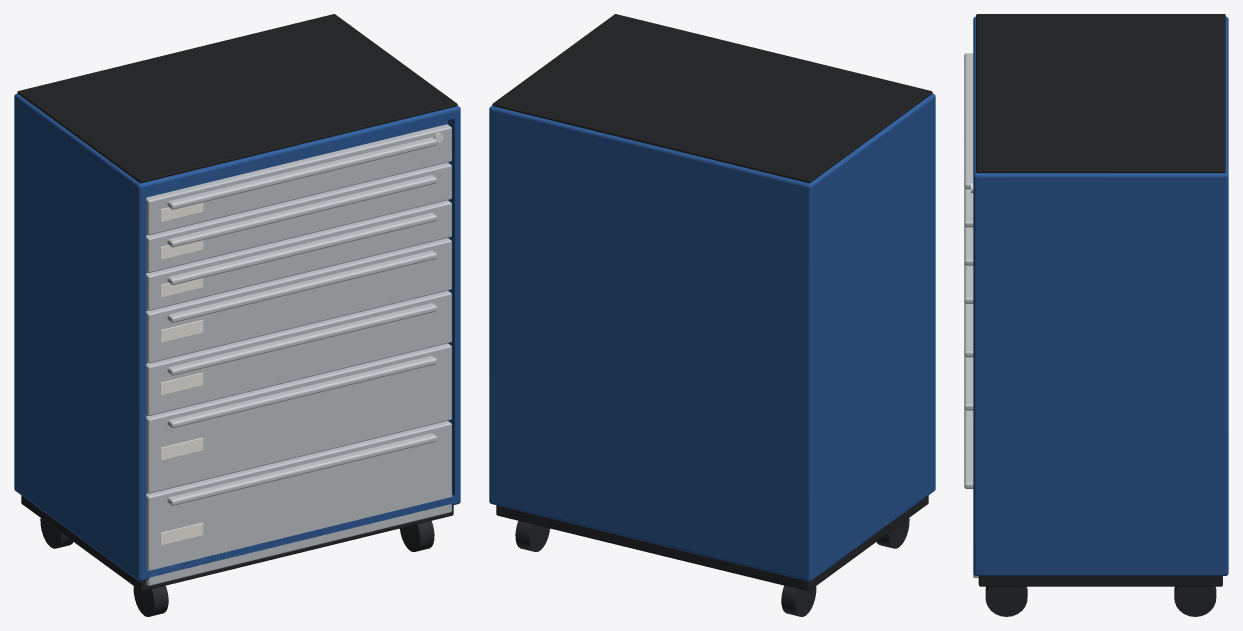
Rendered from tool-cabinet.glb.
3 renders of one model, left to right at view 1: azimuth 30°, elevation 25°; view 2: azimuth 150°, elevation 25°; view 3: azimuth 270°, elevation 25°, orthographic.
Parts seen in each view (by area): view 1: cab_body, cab_top_mat, drawer_7, drawer_6, drawer_4, drawer_5, drawer_1, drawer_3, drawer_2, drawer_6_handle, drawer_7_handle, drawer_3_handle (+10 smaller); view 2: cab_body, cab_top_mat, cab_base, cab_casters; view 3: cab_body, cab_top_mat, cab_base, cab_casters, drawer_1_handle, drawer_7_handle, drawer_6_handle, drawer_5_handle, drawer_3_handle, drawer_4_handle, drawer_2_handle.
Boxes of the visible parts, bbox=[...] form: cab_body: bbox=[14, 93, 460, 581]; cab_top_mat: bbox=[17, 14, 457, 183]; drawer_7: bbox=[146, 421, 451, 585]; drawer_6: bbox=[146, 343, 451, 493]; drawer_4: bbox=[146, 238, 451, 363]; drawer_5: bbox=[146, 290, 451, 415]; drawer_1: bbox=[146, 124, 451, 235]; drawer_3: bbox=[146, 200, 451, 310]; drawer_2: bbox=[146, 162, 451, 272]; drawer_6_handle: bbox=[167, 356, 436, 428]; drawer_7_handle: bbox=[167, 433, 436, 505]; drawer_3_handle: bbox=[167, 212, 436, 285]; cab_body: bbox=[489, 93, 935, 581]; cab_top_mat: bbox=[492, 14, 932, 183]; cab_base: bbox=[496, 495, 928, 591]; cab_casters: bbox=[515, 518, 909, 616]; cab_body: bbox=[973, 16, 1228, 575]; cab_top_mat: bbox=[976, 14, 1225, 172]; cab_base: bbox=[978, 576, 1222, 586]; cab_casters: bbox=[985, 586, 1216, 616]; drawer_1_handle: bbox=[964, 53, 973, 189]; drawer_7_handle: bbox=[964, 409, 973, 488]; drawer_6_handle: bbox=[964, 356, 973, 410]; drawer_5_handle: bbox=[964, 302, 973, 357]; drawer_3_handle: bbox=[964, 226, 973, 265]; drawer_4_handle: bbox=[964, 264, 973, 303]; drawer_2_handle: bbox=[964, 188, 973, 227].
Size of the model in its own units: 0.68 by 0.906 by 0.476.
